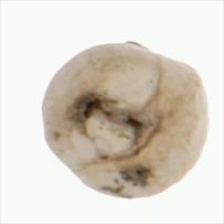L3: (78, 96, 154, 163)
L4: (42, 42, 208, 199)
